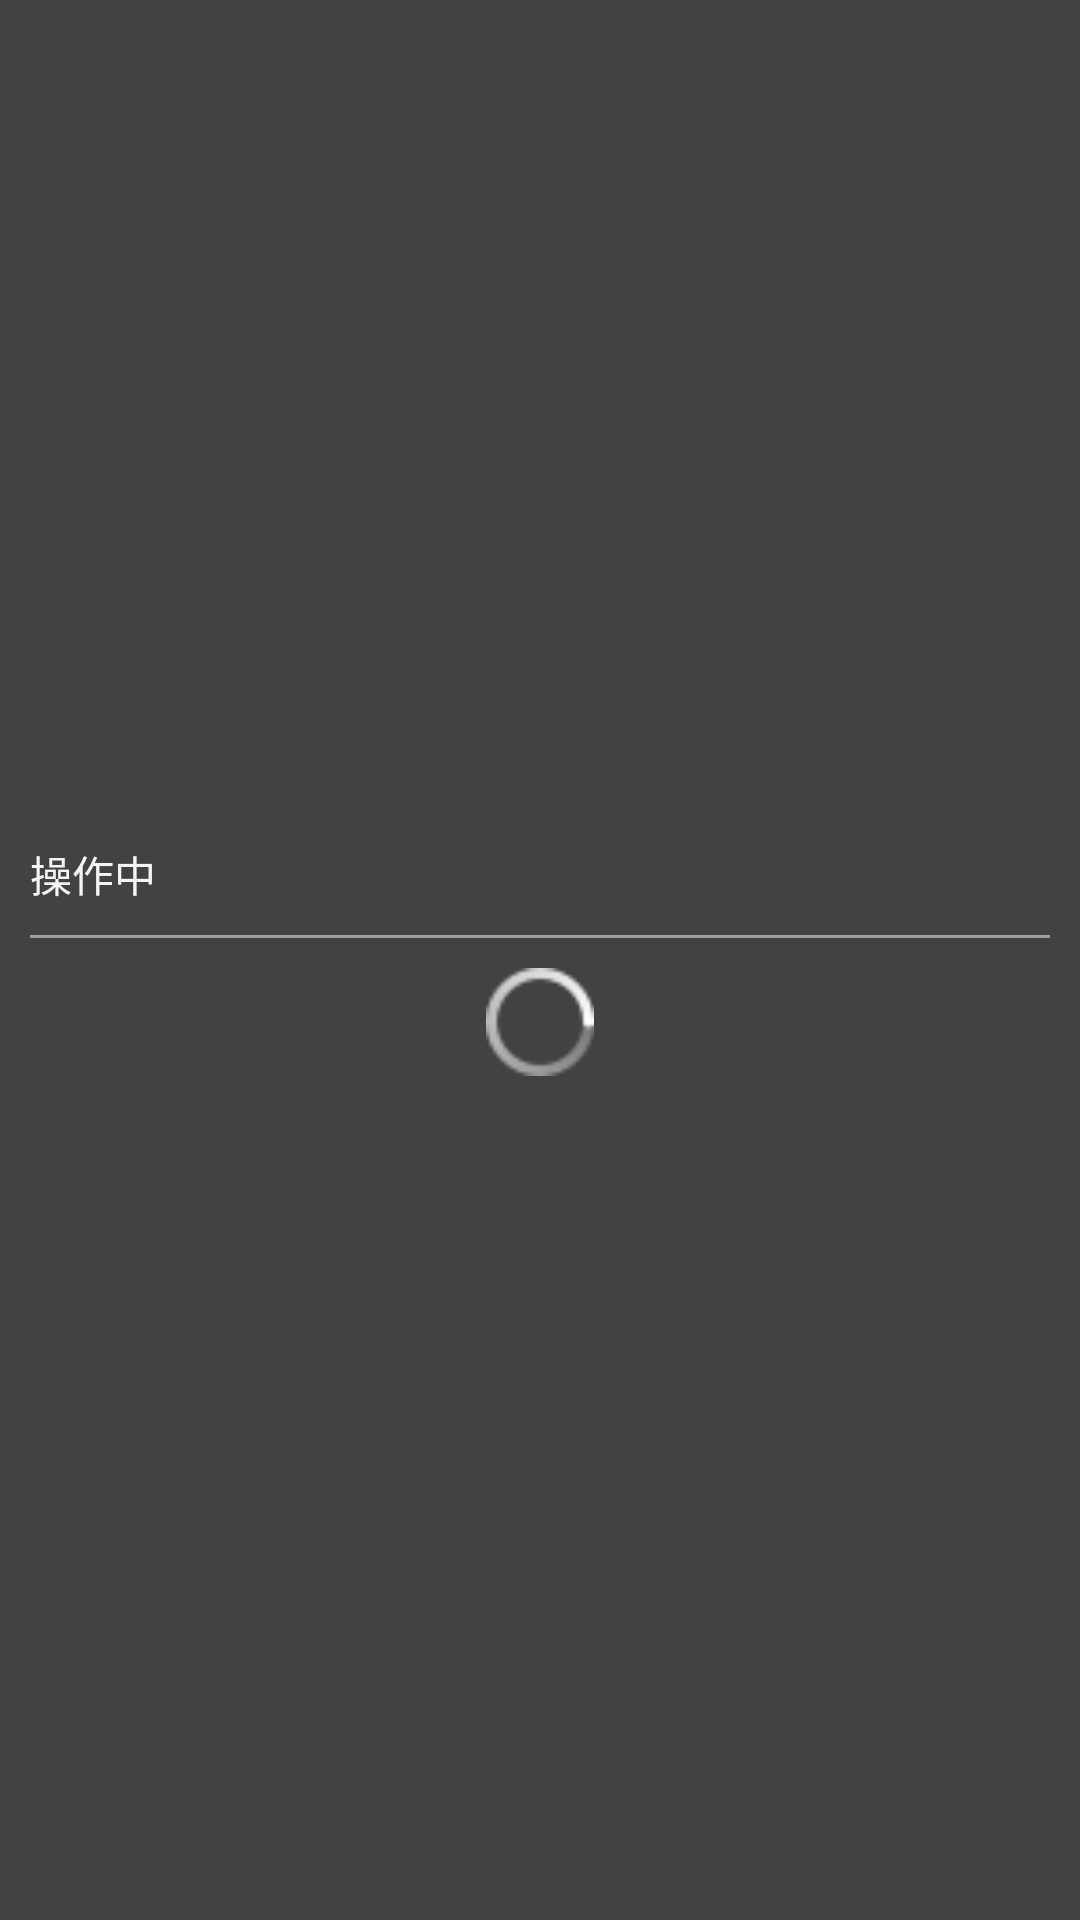

Where to tap for icons on this 1080x1920 app screen, as [x,y]:
loading circle: [540,1022]
